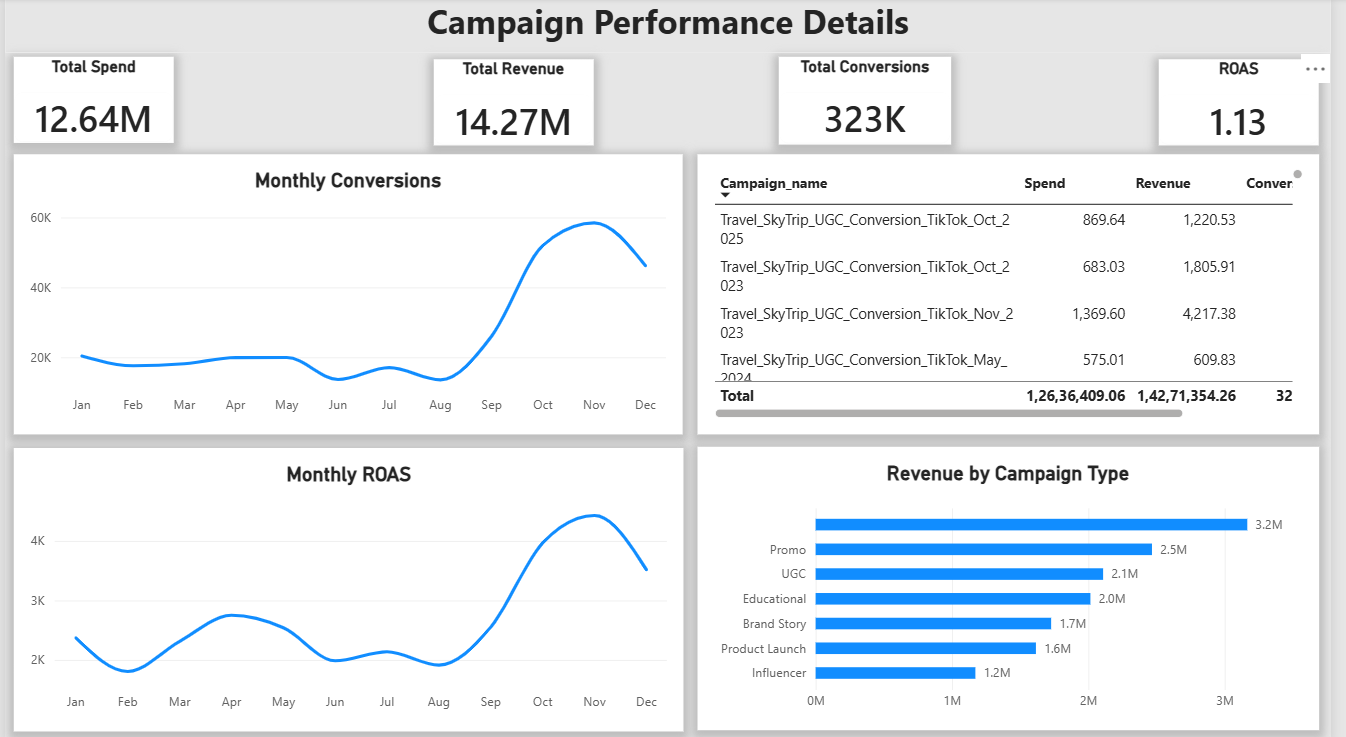

The page's visual inventory and layout, read from the dashboard file:
{"tool":"powerbi","page":{"name":"Campaign Performance Details ","canvas":[1280,720],"ordinal":2},"visuals":[{"type":"cardVisual","title":"Total Spend","fields":{"Data":["Sum(campaign_iq campaign_iq_cleaned_full.spend)"]},"box":[8.4,56.7,154.4,83.2],"z":0},{"type":"cardVisual","title":"Total Revenue","fields":{"Data":["Sum(campaign_iq campaign_iq_cleaned_full.revenue)"]},"box":[413.8,59.1,154,83],"z":1000},{"type":"cardVisual","title":"Total Conversions","fields":{"Data":["Sum(campaign_iq campaign_iq_cleaned_full.conversions)"]},"box":[746.8,56.7,166.5,84.5],"z":2000},{"type":"cardVisual","title":"ROAS","fields":{"Data":["campaign_iq campaign_iq_cleaned_full.Roass"]},"box":[1113.5,59.1,154.4,83.2],"z":3000},{"type":"lineChart","title":"Monthly Conversions","fields":{"Category":["campaign_iq campaign_iq_cleaned_full.month_name"],"Y":["Sum(campaign_iq campaign_iq_cleaned_full.conversions)"]},"box":[8.4,150.8,645.4,270.2],"z":4000},{"type":"lineChart","title":"Monthly ROAS","fields":{"Category":["campaign_iq campaign_iq_cleaned_full.month_name"],"Y":["Sum(campaign_iq campaign_iq_cleaned_full.ROAS)"]},"box":[8.4,434.3,646.7,273.9],"z":5000},{"type":"tableEx","fields":{"Values":["campaign_iq campaign_iq_cleaned_full.campaign_name","Sum(campaign_iq campaign_iq_cleaned_full.spend)","Sum(campaign_iq campaign_iq_cleaned_full.revenue)","Sum(campaign_iq campaign_iq_cleaned_full.conversions)","Sum(campaign_iq campaign_iq_cleaned_full.ROAS)"]},"box":[668.4,150.8,599.6,270.2],"z":6000},{"type":"clusteredBarChart","title":"Revenue by Campaign Type","fields":{"Category":["campaign_iq campaign_iq_cleaned_full.campaign_type"],"Y":["Sum(campaign_iq campaign_iq_cleaned_full.revenue)"]},"box":[668.4,433.1,599.6,273.9],"z":7000},{"type":"textbox","box":[0,0,1280,53.1],"z":8000}]}

Visuals, with their boxes in screenshot pixels (x1, y1, x2, y2), scaled from the page's 1280x720 canvas onto the 1346x737 screenshot:
"Total Spend" cardVisual: x1=9 y1=58 x2=171 y2=143
"Total Revenue" cardVisual: x1=435 y1=60 x2=597 y2=145
"Total Conversions" cardVisual: x1=785 y1=58 x2=960 y2=145
"ROAS" cardVisual: x1=1171 y1=60 x2=1333 y2=146
"Monthly Conversions" lineChart: x1=9 y1=154 x2=688 y2=431
"Monthly ROAS" lineChart: x1=9 y1=445 x2=689 y2=725
tableEx - campaign_iq campaign_iq_cleaned_full.campaign_name x Sum(campaign_iq campaign_iq_cleaned_full.spend): x1=703 y1=154 x2=1333 y2=431
"Revenue by Campaign Type" clusteredBarChart: x1=703 y1=443 x2=1333 y2=724
textbox: x1=0 y1=0 x2=1345 y2=54
